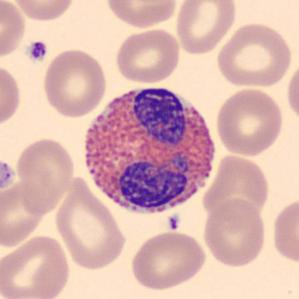Eosinophil: (75, 76, 222, 223)
Platelets: (27, 38, 49, 64), (0, 158, 17, 190), (166, 214, 181, 231)
RBC: (52, 176, 130, 273), (214, 19, 294, 90), (213, 86, 286, 158), (201, 152, 272, 225), (127, 229, 208, 291), (14, 135, 76, 214), (41, 46, 109, 118), (0, 232, 72, 299), (201, 198, 268, 268), (113, 26, 182, 85), (174, 0, 238, 56), (103, 0, 180, 29), (269, 195, 299, 267), (0, 0, 28, 61), (0, 61, 23, 130), (9, 0, 76, 23), (284, 58, 299, 126)
